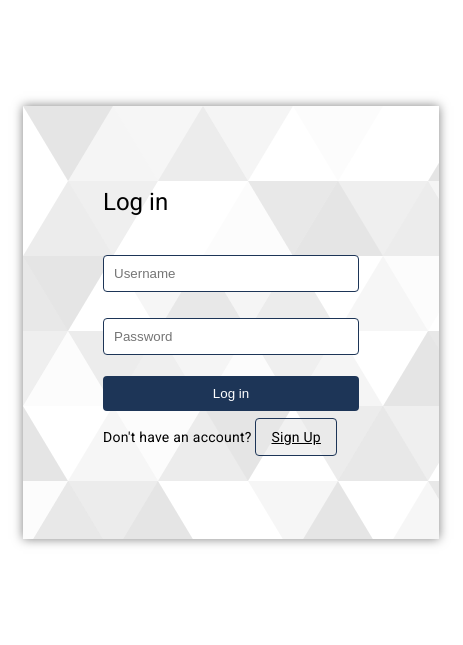
Test case: Login Page Tests › should allow a user to navigate to the sign up page
Note: Click on the 'Sign Up' link
Click the link with class "signUp": (297, 437) [256,418,338,456]
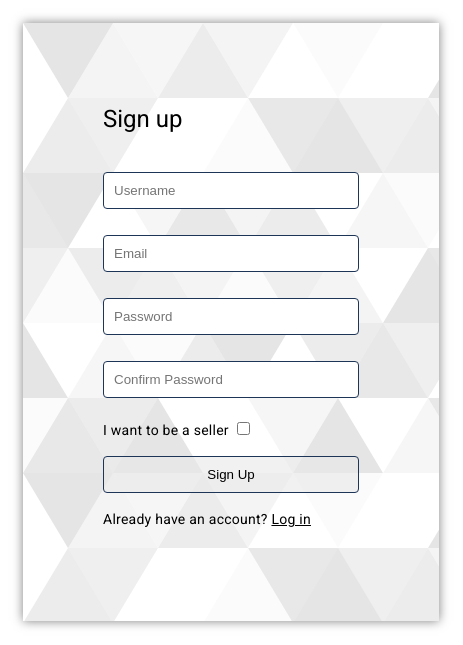
Now the heading "Sign up" is shown, box [103,105,182,133]
